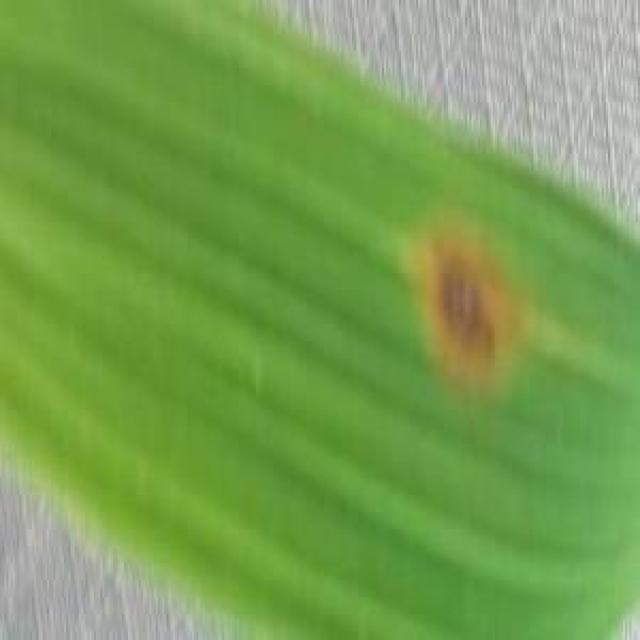Brown_Spot: (414, 238, 509, 364)
